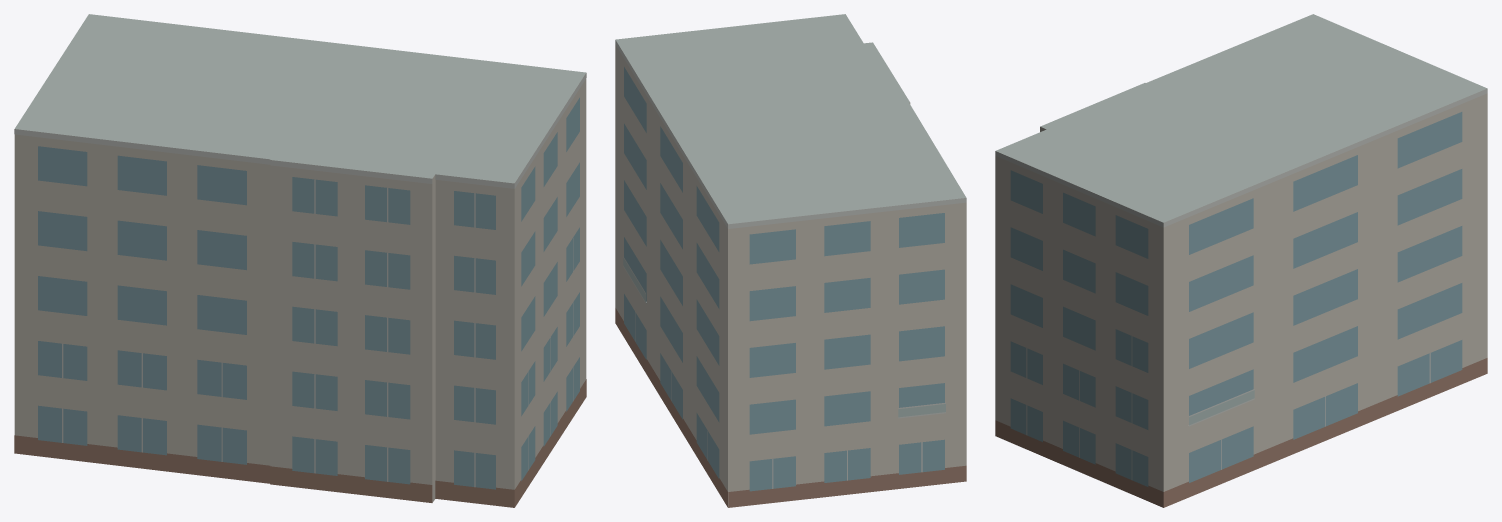
The model's file is survey-upis-32629233.glb.
3 renders of one model, left to right at view 1: azimuth 30°, elevation 25°; view 2: azimuth 150°, elevation 25°; view 3: azimuth 270°, elevation 25°, orthographic. The views are drawn at different scales.
Visible parts, largest first — view 1: survey-upis-32629233.tmp; view 2: survey-upis-32629233.tmp; view 3: survey-upis-32629233.tmp.
Boxes of the visible parts, <box> form: survey-upis-32629233.tmp: <box>14,14,586,507</box>; survey-upis-32629233.tmp: <box>615,14,966,507</box>; survey-upis-32629233.tmp: <box>995,14,1487,507</box>.
Bounding box in the file's own units: 22.78 × 14.5 × 22.69.
